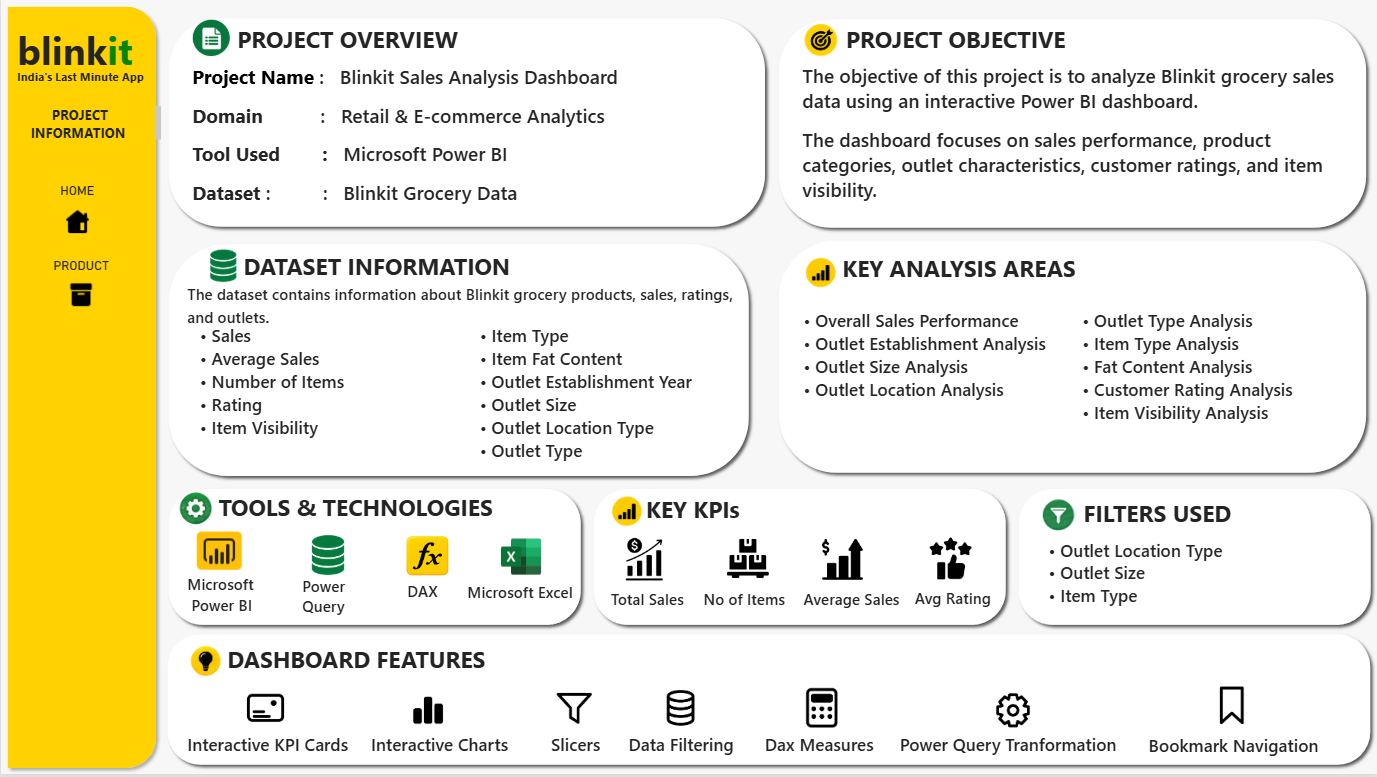

The dashboard page shown, as its layout file describes it:
{"tool":"powerbi","page":{"name":"PROJECT INFO","canvas":[1920,1080],"ordinal":2},"visuals":[{"type":"textbox","box":[0,88.3,225.1,57.6],"z":0},{"type":"shape","box":[0,0,225.1,1080.7],"z":1000},{"type":"shape","title":"  PROJECT OVERVIEW","box":[225.1,16.2,850.1,309.8],"z":2000},{"type":"textbox","box":[266.6,88.3,729.5,207.1],"z":3000},{"type":"textbox","box":[330.1,33.4,381.8,59.4],"z":4000},{"type":"shape","title":"  PROJECT OVERVIEW","box":[1076,16.7,837.8,309.2],"z":5000},{"type":"shape","title":"  PROJECT OVERVIEW","box":[224.4,331.6,827.4,341.7],"z":6000},{"type":"shape","title":"  PROJECT OVERVIEW","box":[1076,325.9,837.8,342.6],"z":7000},{"type":"shape","title":"  PROJECT OVERVIEW","box":[225.4,672.5,592.9,207.7],"z":8000},{"type":"shape","title":"  PROJECT OVERVIEW","box":[817.4,673.3,592.9,207.7],"z":9000},{"type":"shape","title":"  PROJECT OVERVIEW","box":[1411.6,672.5,509.2,207.7],"z":10000},{"type":"shape","title":"  PROJECT OVERVIEW","box":[223.5,875.4,1696.5,200.6],"z":11000},{"type":"textbox","box":[1118.9,87.1,781.7,219.7],"z":12000},{"type":"textbox","box":[1178.3,33.4,330,43.5],"z":13000},{"type":"textbox","box":[259.6,395.3,782.2,72],"z":14000},{"type":"textbox","box":[338.5,348.9,445.5,48.6],"z":15000},{"type":"textbox","box":[278,452.2,323.3,209.4],"z":16000},{"type":"textbox","box":[668.3,452.2,299.8,204.3],"z":17000},{"type":"textbox","box":[1174.1,353.1,330,48.6],"z":18000},{"type":"textbox","box":[1119.5,430.9,357,142.4],"z":19000},{"type":"textbox","box":[1509,430.9,299.3,173.1],"z":20000},{"type":"textbox","box":[1510.5,693.6,241.6,50.5],"z":21000},{"type":"textbox","box":[1462.5,733.3,299.3,115.4],"z":22000},{"type":"textbox","box":[302.9,685.1,409.2,59.5],"z":23000},{"type":"image","box":[248.6,731.2,110.7,75.2],"z":24000},{"type":"textbox","box":[259.1,800.2,110.7,64.8],"z":25000},{"type":"image","box":[390.7,743.8,131.6,62.7],"z":26000},{"type":"textbox","box":[419.9,802.3,102.4,64.8],"z":27000},{"type":"image","box":[530.7,739.6,129.5,71],"z":28000},{"type":"textbox","box":[566.2,808.5,71,52.2],"z":29000},{"type":"image","box":[668.6,743.8,114.9,66.9],"z":30000},{"type":"textbox","box":[649.7,810.6,169.2,50.1],"z":31000},{"type":"textbox","box":[900.5,689.4,160.9,60.6],"z":32000},{"type":"image","box":[858.7,750,79.4,60.6],"z":33000},{"type":"textbox","box":[850.3,821.1,119.1,58.5],"z":34000},{"type":"image","box":[988.2,750,106.6,58.5],"z":35000},{"type":"textbox","box":[979.8,821.1,121.2,54.3],"z":36000},{"type":"image","box":[1119.8,750,108.6,60.6],"z":37000},{"type":"textbox","box":[1119.8,821.1,146.2,43.9],"z":38000},{"type":"image","box":[1274.4,750,100.3,58.5],"z":39000},{"type":"textbox","box":[1274.4,819,144.2,41.8],"z":40000},{"type":"textbox","box":[23,33.4,179.7,96.1],"z":41000},{"type":"textbox","box":[23,96.1,202.7,71],"z":42000},{"type":"textbox","box":[0,148.3,223.5,48.1],"z":43000},{"type":"textbox","box":[397,881.7,369.8,98.2],"z":44000},{"type":"image","box":[248.6,344.7,121.2,50.1],"z":45000},{"type":"image","box":[1107.3,355.2,73.1,48.1],"z":46000},{"type":"image","box":[1094.8,29.2,98.2,52.2],"z":47000},{"type":"image","box":[259.1,25.1,66.9,56.4],"z":48000},{"type":"image","box":[837.8,689.4,73.1,48.1],"z":49000},{"type":"image","box":[236.1,685.3,73.1,48.1],"z":50000},{"type":"image","box":[1439.5,693.6,73.1,48.1],"z":51000},{"type":"textbox","box":[315.5,898.4,426.2,52.2],"z":52000},{"type":"image","box":[248.6,898.4,73.1,48.1],"z":53000},{"type":"image","box":[319.7,954.8,100.3,66.9],"z":54000},{"type":"textbox","box":[259.1,1021.6,234,54.3],"z":55000},{"type":"image","box":[545.3,954.8,100.3,66.9],"z":56000},{"type":"textbox","box":[516,1021.6,196.4,46],"z":57000},{"type":"image","box":[750,954.8,100.3,66.9],"z":58000},{"type":"textbox","box":[766.7,1021.6,83.6,46],"z":59000},{"type":"image","box":[898.4,954.8,100.3,66.9],"z":60000},{"type":"textbox","box":[875.4,1021.6,158.8,46],"z":61000},{"type":"image","box":[1094.8,954.8,100.3,66.9],"z":62000},{"type":"textbox","box":[1065.5,1021.6,160.9,35.5],"z":63000},{"type":"image","box":[1362.2,956.9,100.3,66.9],"z":64000},{"type":"image","box":[1667.2,950.6,100.3,66.9],"z":65000},{"type":"textbox","box":[1253.5,1021.6,315.5,58.5],"z":66000},{"type":"textbox","box":[1600.3,1023.7,257,56.4],"z":67000},{"type":"actionButton","title":"HOME","box":[62.6,254.6,87.7,81.4],"z":68000},{"type":"actionButton","title":"PRODUCT","box":[45.3,359.3,133.6,83.5],"z":68001}]}

Visuals, with their boxes in screenshot pixels (x1, y1, x2, y2), scaled from the page's 1920x1080 canvas onto the 1377x777 screenshot:
textbox: <box>0,64,161,105</box>
shape: <box>0,0,161,776</box>
"  PROJECT OVERVIEW" shape: <box>161,12,771,235</box>
textbox: <box>191,64,714,213</box>
textbox: <box>237,24,511,67</box>
"  PROJECT OVERVIEW" shape: <box>772,12,1373,234</box>
"  PROJECT OVERVIEW" shape: <box>161,239,754,484</box>
"  PROJECT OVERVIEW" shape: <box>772,234,1373,481</box>
"  PROJECT OVERVIEW" shape: <box>162,484,587,633</box>
"  PROJECT OVERVIEW" shape: <box>586,484,1011,634</box>
"  PROJECT OVERVIEW" shape: <box>1012,484,1376,633</box>
"  PROJECT OVERVIEW" shape: <box>160,630,1376,774</box>
textbox: <box>802,63,1363,221</box>
textbox: <box>845,24,1082,55</box>
textbox: <box>186,284,747,336</box>
textbox: <box>243,251,562,286</box>
textbox: <box>199,325,431,476</box>
textbox: <box>479,325,694,472</box>
textbox: <box>842,254,1079,289</box>
textbox: <box>803,310,1059,412</box>
textbox: <box>1082,310,1297,435</box>
textbox: <box>1083,499,1257,535</box>
textbox: <box>1049,528,1264,611</box>
textbox: <box>217,493,511,536</box>
image: <box>178,526,258,580</box>
textbox: <box>186,576,265,622</box>
image: <box>280,535,375,580</box>
textbox: <box>301,577,375,624</box>
image: <box>381,532,473,583</box>
textbox: <box>406,582,457,619</box>
image: <box>480,535,562,583</box>
textbox: <box>466,583,587,619</box>
textbox: <box>646,496,761,540</box>
image: <box>616,540,673,583</box>
textbox: <box>610,591,695,633</box>
image: <box>709,540,785,582</box>
textbox: <box>703,591,790,630</box>
image: <box>803,540,881,583</box>
textbox: <box>803,591,908,622</box>
image: <box>914,540,986,582</box>
textbox: <box>914,589,1017,619</box>
textbox: <box>16,24,145,93</box>
textbox: <box>16,69,162,120</box>
textbox: <box>0,107,160,141</box>
textbox: <box>285,634,550,705</box>
image: <box>178,248,265,284</box>
image: <box>794,256,847,290</box>
image: <box>785,21,856,59</box>
image: <box>186,18,234,59</box>
image: <box>601,496,653,531</box>
image: <box>169,493,222,528</box>
image: <box>1032,499,1085,534</box>
textbox: <box>226,646,532,684</box>
image: <box>178,646,231,681</box>
image: <box>229,687,301,735</box>
textbox: <box>186,735,354,774</box>
image: <box>391,687,463,735</box>
textbox: <box>370,735,511,768</box>
image: <box>538,687,610,735</box>
textbox: <box>550,735,610,768</box>
image: <box>644,687,716,735</box>
textbox: <box>628,735,742,768</box>
image: <box>785,687,857,735</box>
textbox: <box>764,735,880,761</box>
image: <box>977,688,1049,737</box>
image: <box>1196,684,1268,732</box>
textbox: <box>899,735,1125,776</box>
textbox: <box>1148,736,1332,776</box>
"HOME" actionButton: <box>45,183,108,242</box>
"PRODUCT" actionButton: <box>32,258,128,319</box>
